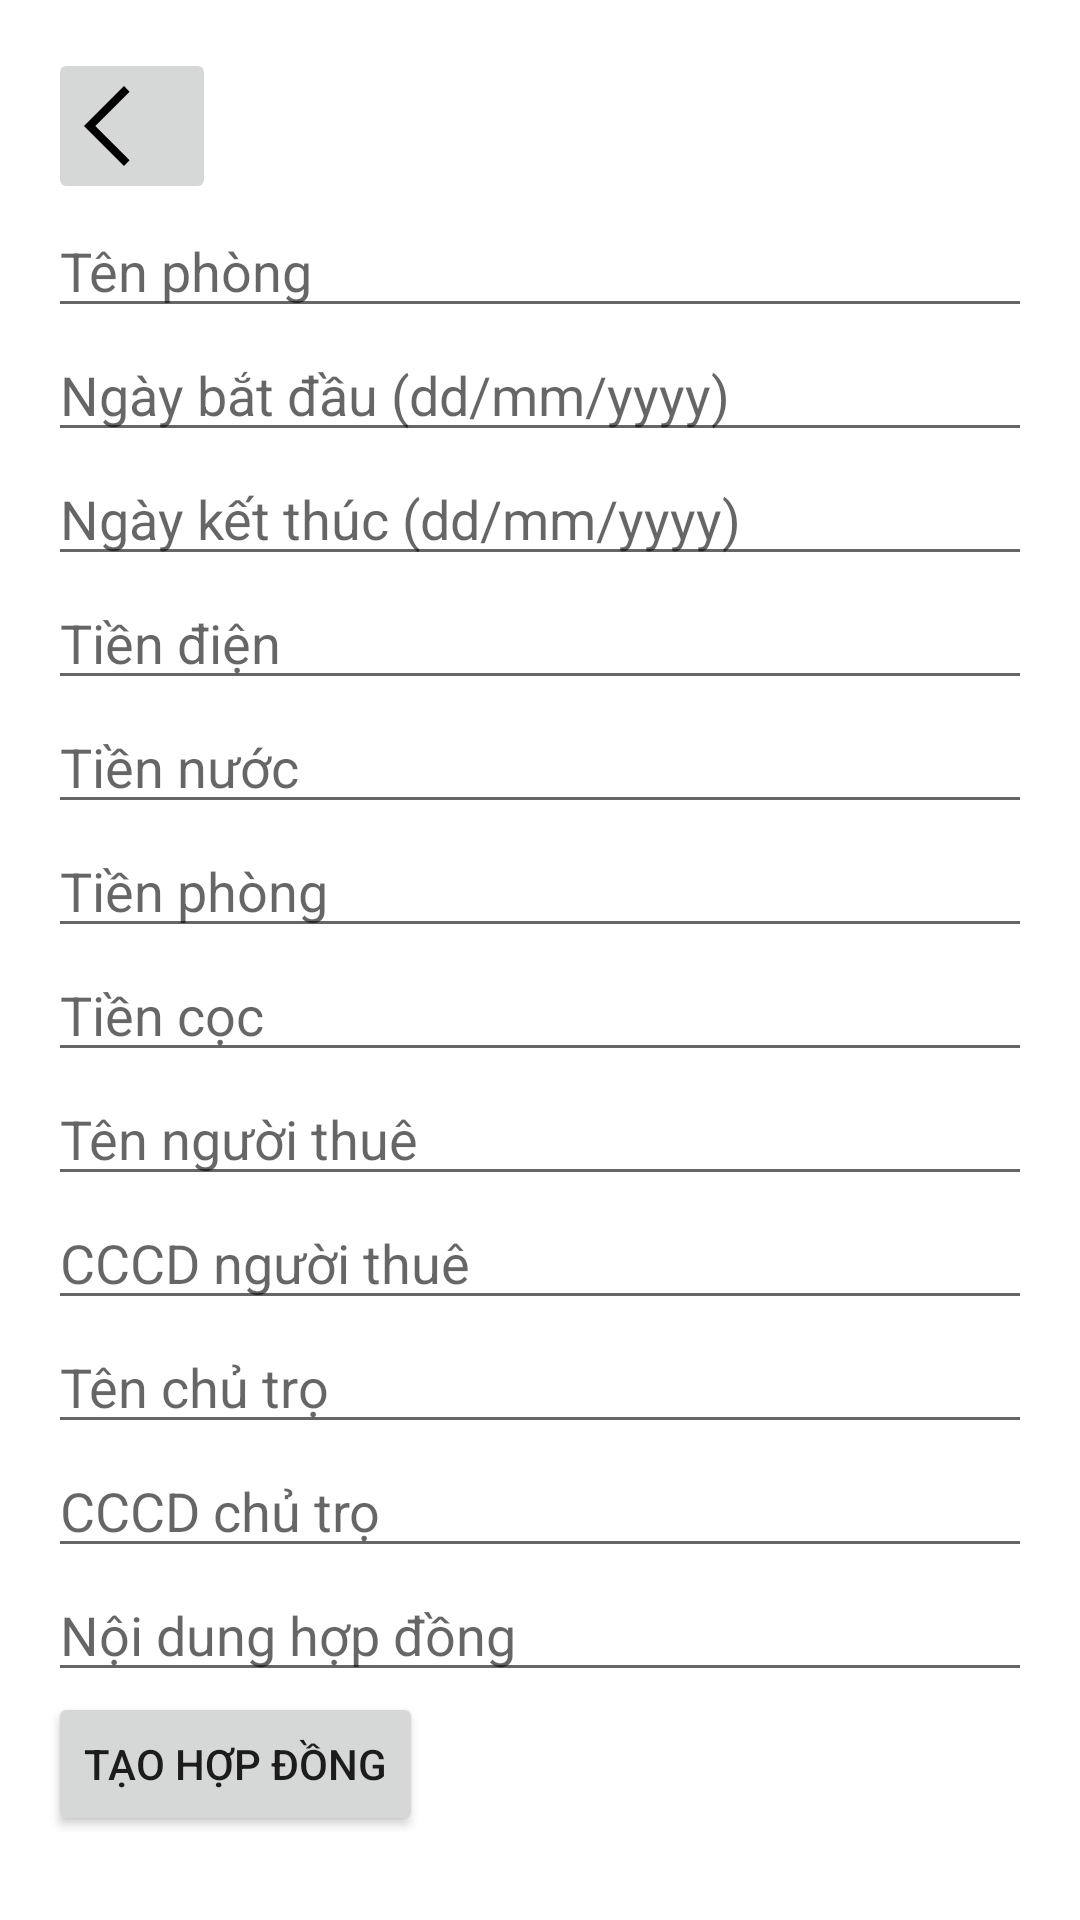

Icons on this 1080×1920 Android screen, each with the point to tap as (x=x, y=y):
Back: (x=132, y=126)
